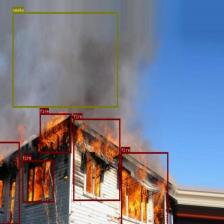fire: (73, 118, 120, 200), (120, 151, 168, 224), (0, 141, 20, 224), (22, 160, 54, 202), (40, 113, 72, 153)
smoke: (12, 12, 118, 107)
